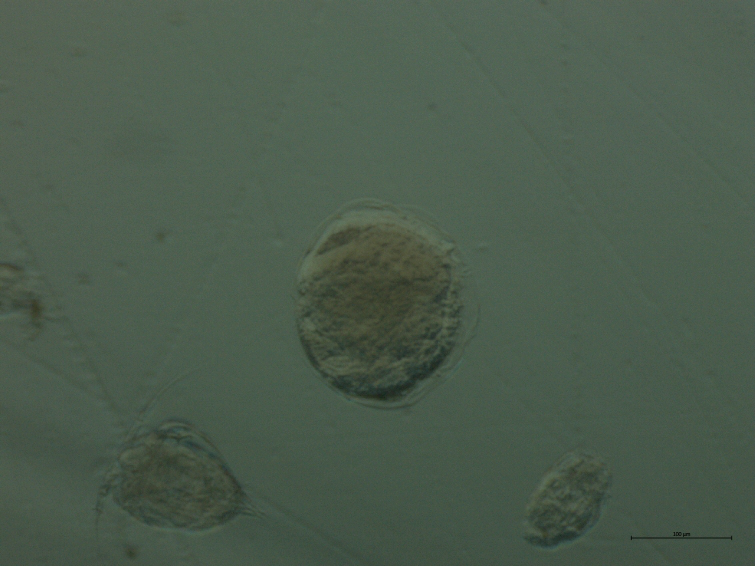oyster: (284, 191, 485, 419)
